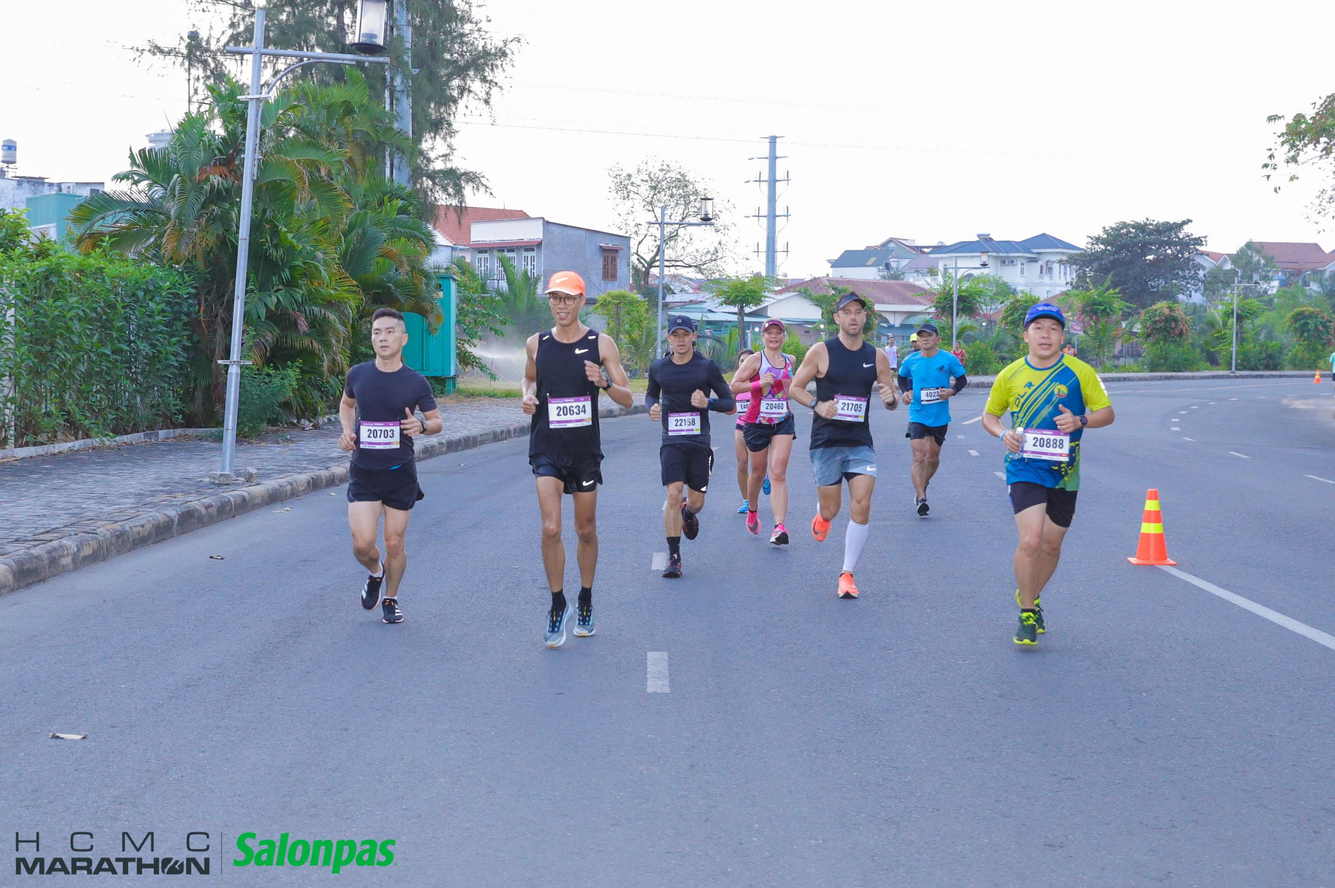bib: (1022, 429, 1068, 464), (548, 397, 591, 429), (359, 420, 401, 448), (833, 394, 866, 423), (668, 411, 700, 437), (760, 396, 786, 417), (921, 386, 945, 401), (735, 400, 750, 415)
